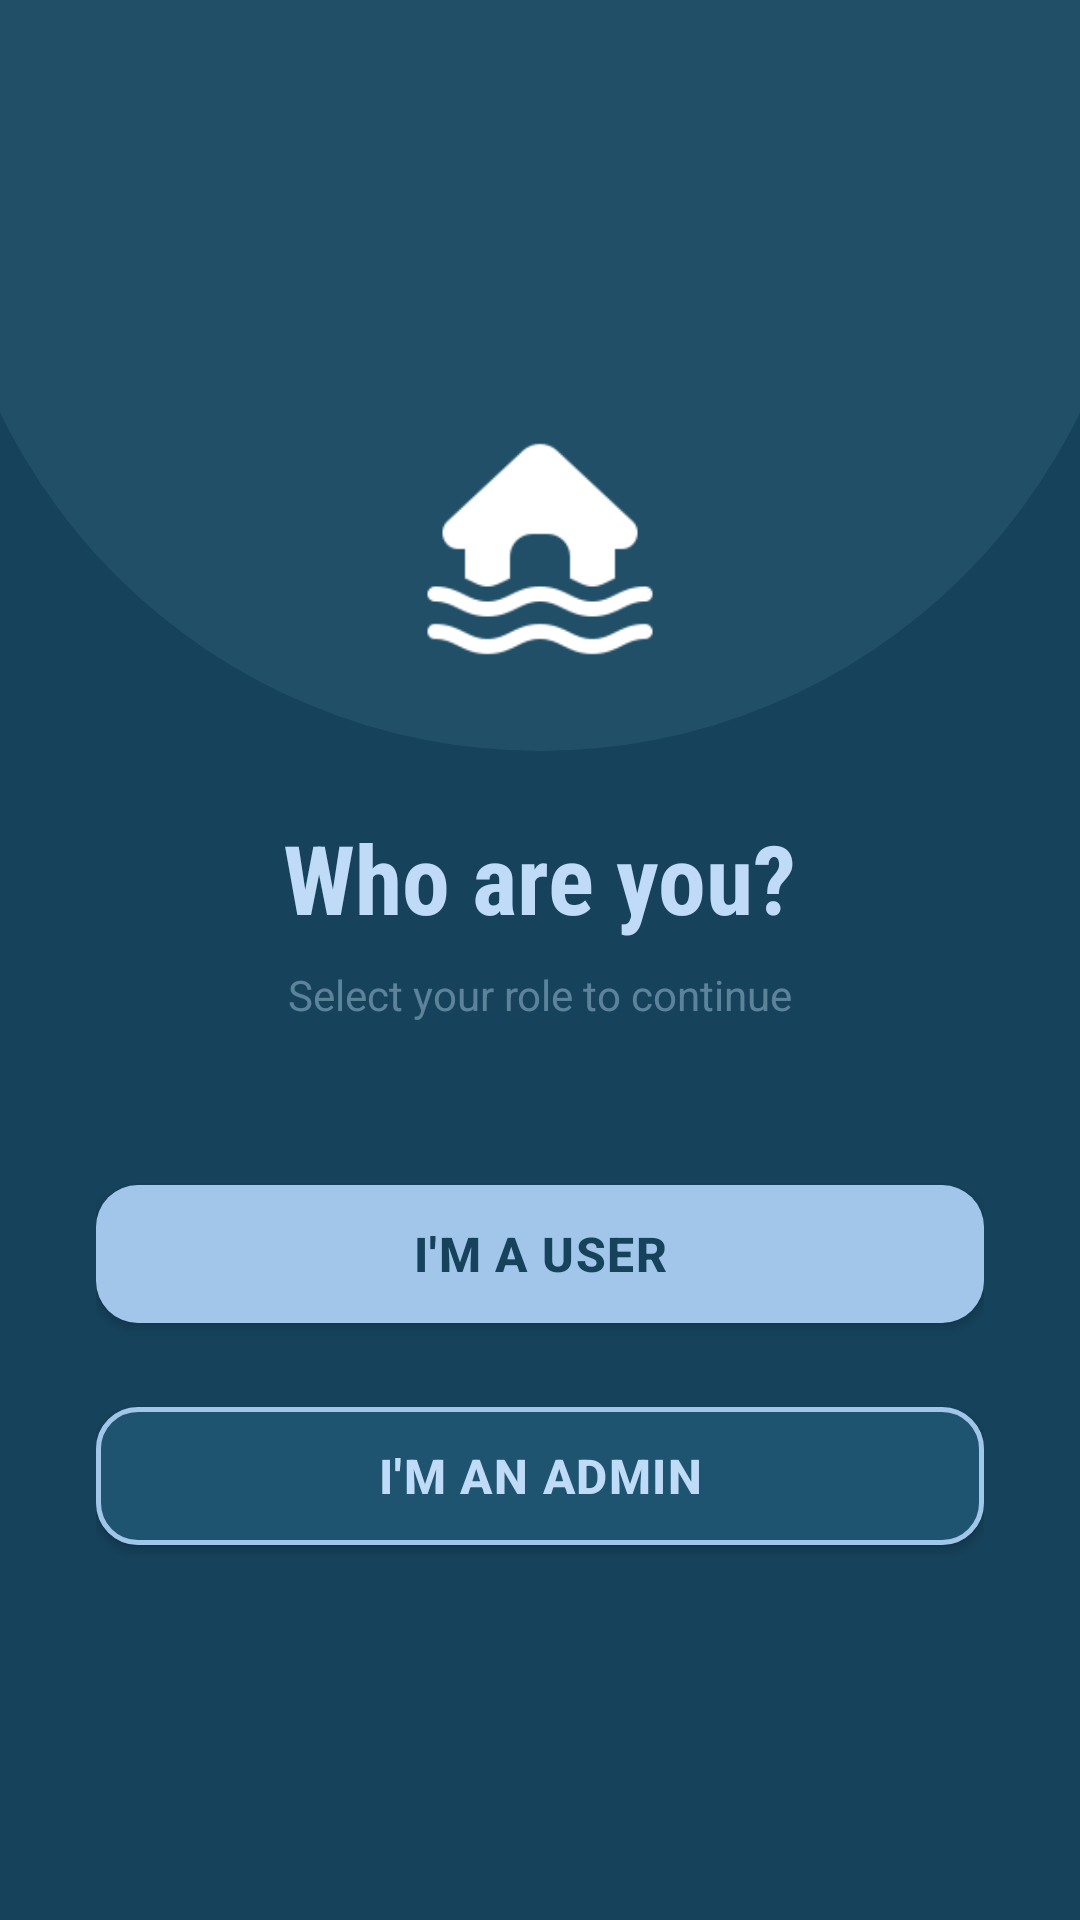

Point at icon controls on the screen. Image size 1080x1920, points as [x,y].
floodedhouse: [540,549]
